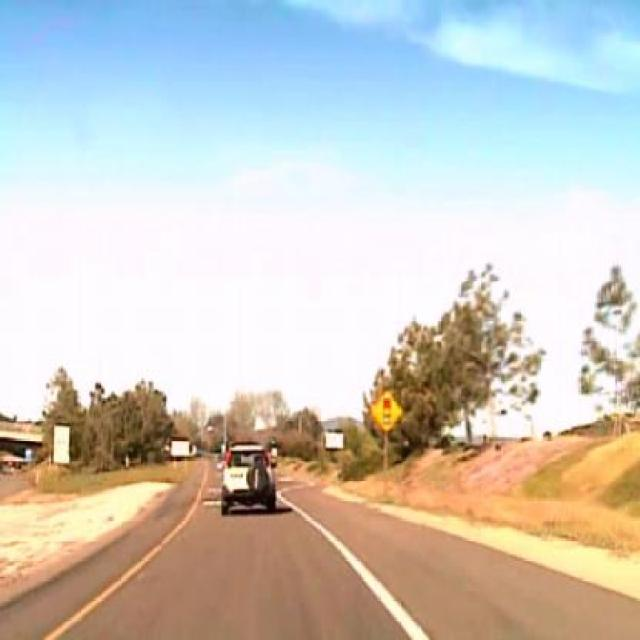signalAhead: (369, 388, 403, 433)
